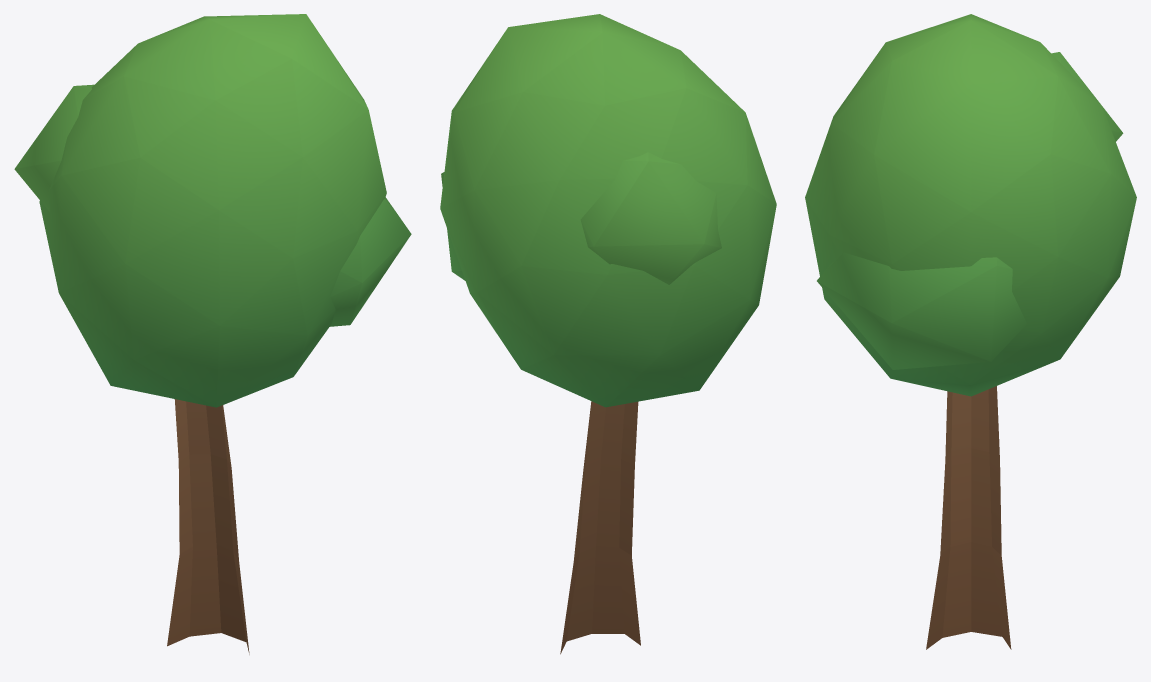
File: tree_3_tall.glb
3 renders of one model, left to right at view 1: azimuth 30°, elevation 25°; view 2: azimuth 150°, elevation 25°; view 3: azimuth 270°, elevation 25°, orthographic. The views are drawn at different scales.
Visible parts, largest first — view 1: tree_tall_3; view 2: tree_tall_3; view 3: tree_tall_3.
Part boxes in pixels (x1=…): tree_tall_3: x1=14, y1=14, x2=411, y2=654; tree_tall_3: x1=440, y1=14, x2=776, y2=654; tree_tall_3: x1=805, y1=14, x2=1136, y2=649.
Size of the model in its own units: 2.47 by 4.76 by 2.27.
